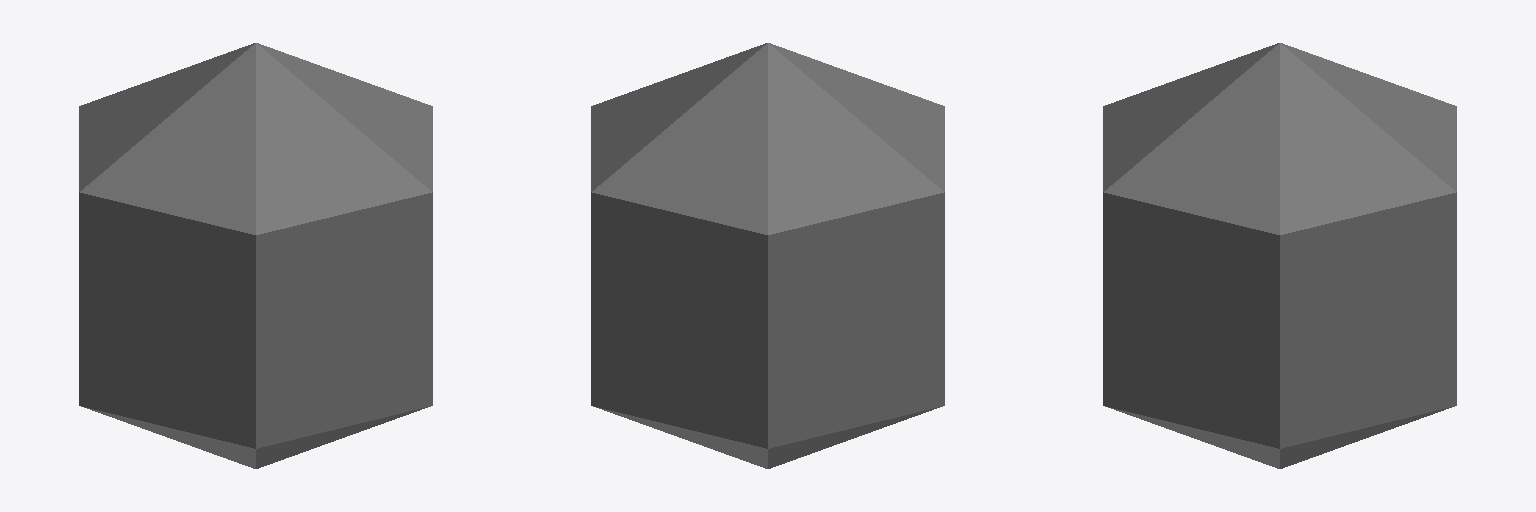
File: Ammo_Small.obj
3 views of the same model, side by side, from view 1: azimuth 30°, elevation 25°; view 2: azimuth 150°, elevation 25°; view 3: azimuth 270°, elevation 25° (orthographic).
Visible parts, largest first — view 1: pSphere1; view 2: pSphere1; view 3: pSphere1.
Part boxes in pixels (left/top/right/bottom): pSphere1: left=79, top=43, right=432, bottom=468; pSphere1: left=591, top=43, right=944, bottom=468; pSphere1: left=1103, top=43, right=1456, bottom=468.
Bounding box in the file's own units: 0.0173 × 0.02 × 0.015.